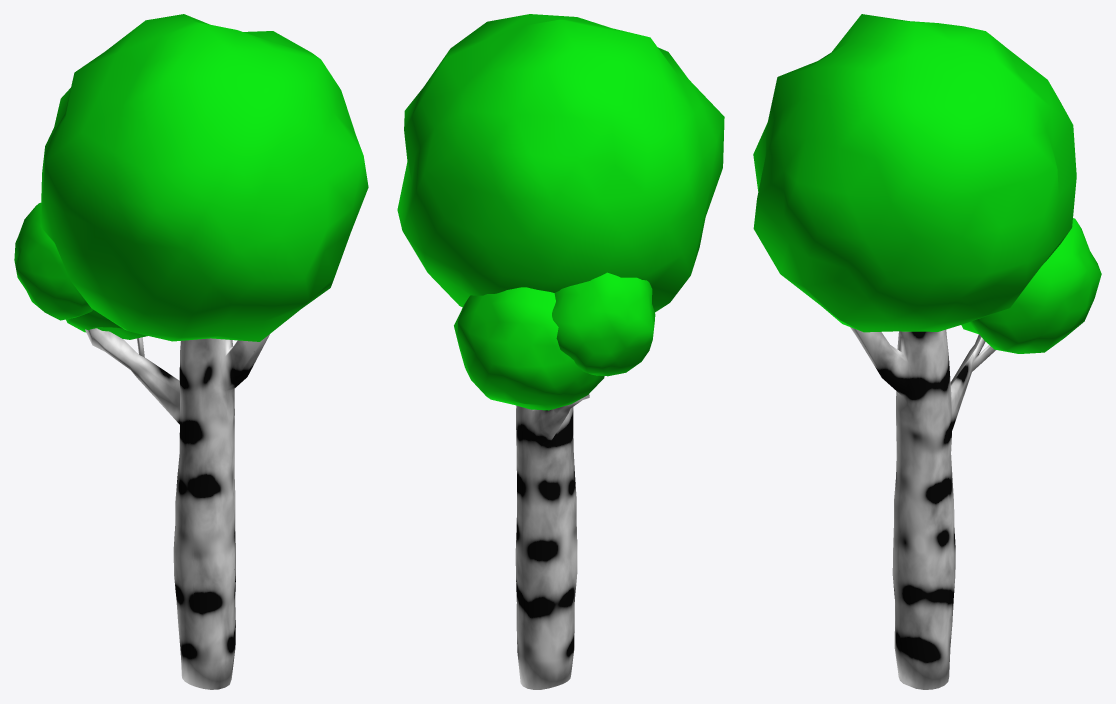
Rendered from BirchBrown2.fbx.
The picture shows the model from 3 angles, left to right: view 1: azimuth 30°, elevation 25°; view 2: azimuth 150°, elevation 25°; view 3: azimuth 270°, elevation 25°; orthographic projection.
Parts seen in each view (by area): view 1: BirchBrown2; view 2: BirchBrown2; view 3: BirchBrown2.
Part boxes in pixels (x1,y1,x2,y2): BirchBrown2: (14, 14, 368, 689); BirchBrown2: (397, 14, 724, 689); BirchBrown2: (753, 14, 1101, 689).
Size of the model in its own units: 280 by 623 by 302.
